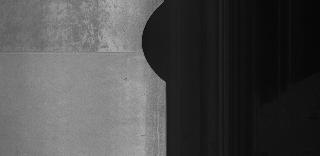welding line: (1, 47, 149, 60)
